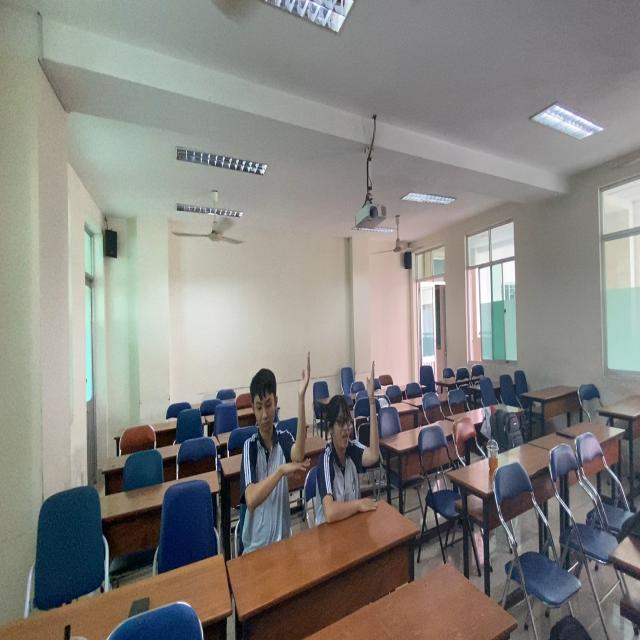raise_hand: (237, 345, 315, 528), (321, 358, 385, 523)
